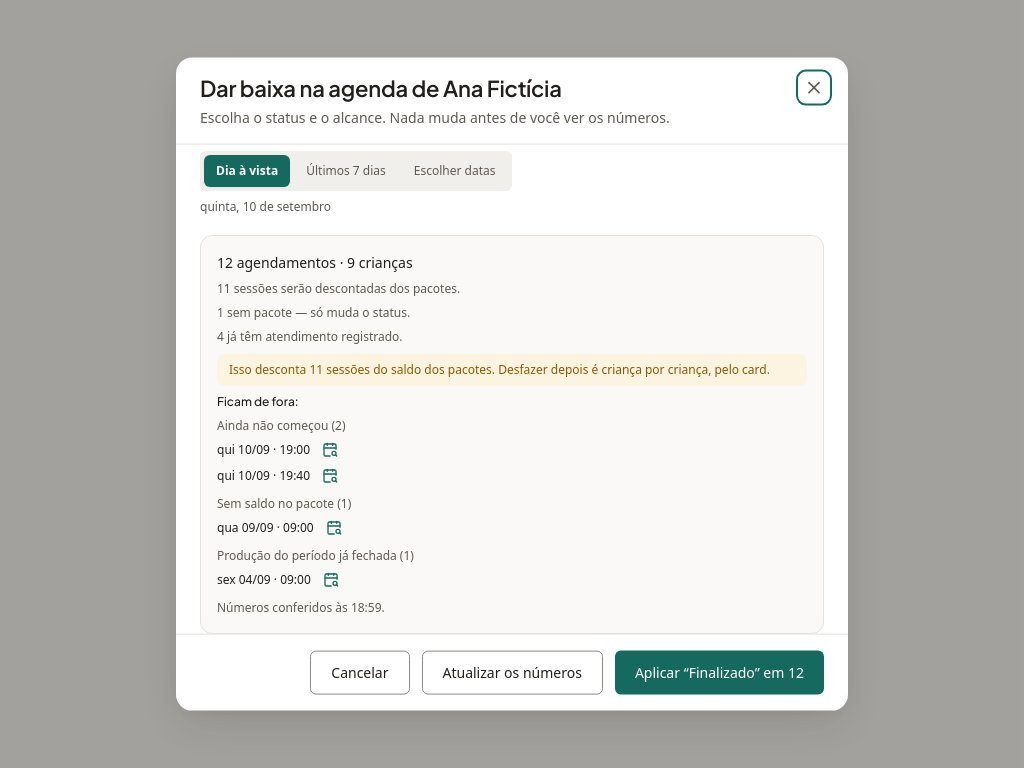
BaixaEmLote — o resultado é mostrado, não só confirmado › deve dizer quantos ficaram de fora por uma recusa que a prévia não antecipou
(page scrolled)
Click the button "Aplicar “Finalizado” em 12" at (719, 672), box [615,650,824,694]
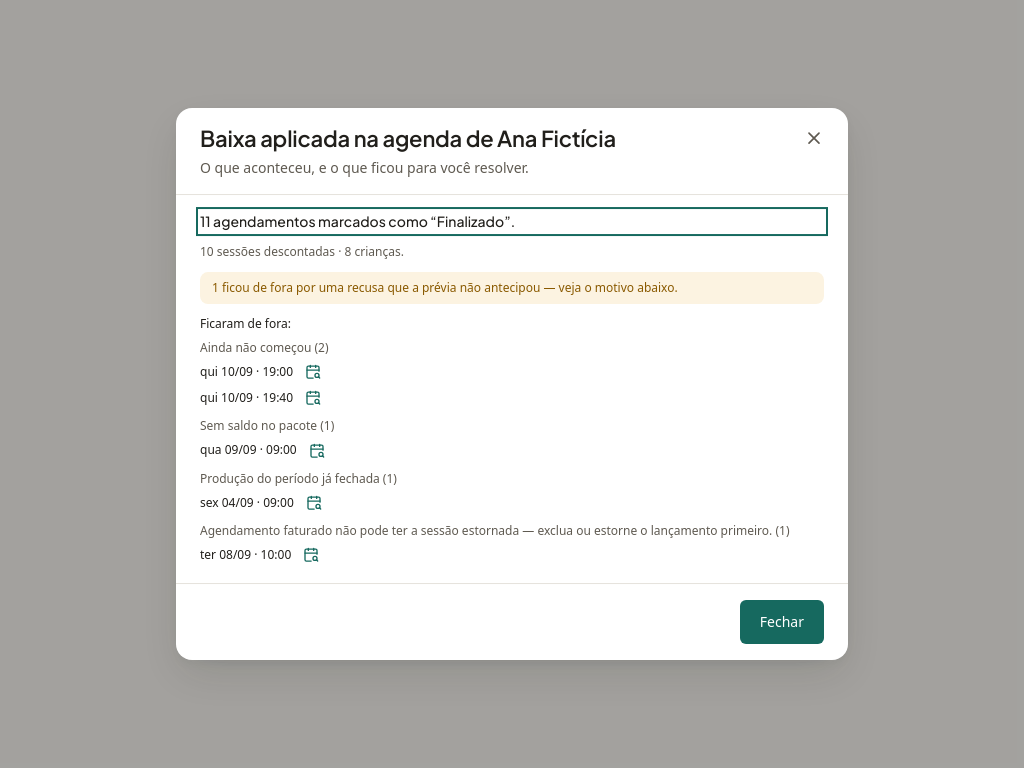
Now the text "1 ficou de fora por uma recusa que a prévia não antecipou — veja o motivo abaixo." is shown, box [212,279,678,296]
